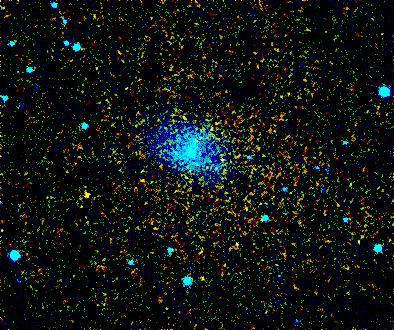star: (67, 179, 97, 209)
